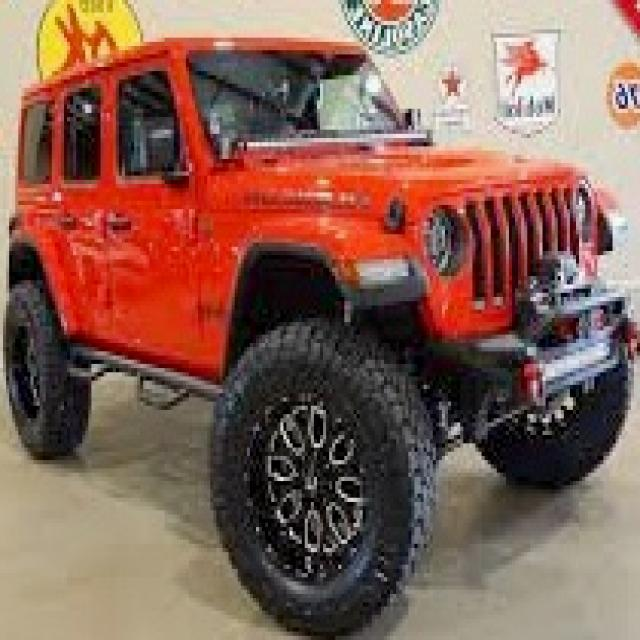red: (0, 38, 631, 499)
